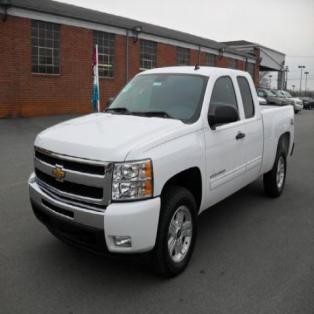Auto: (27, 46, 297, 278)
